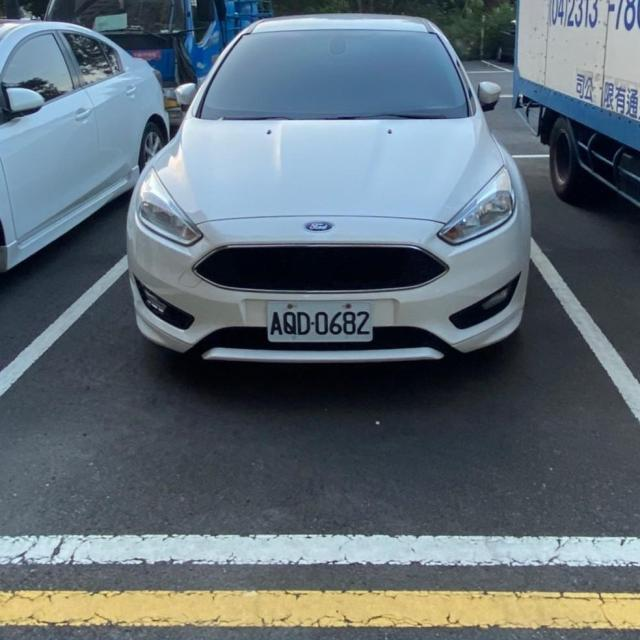W: (265, 299, 374, 343)
